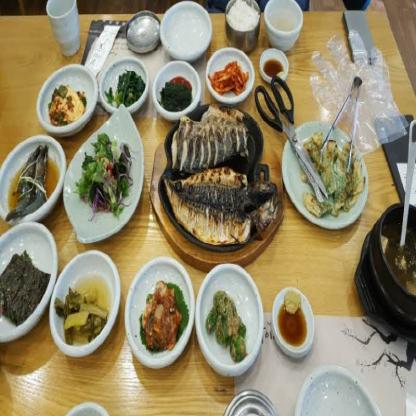Peixe: (172, 98, 284, 256)
